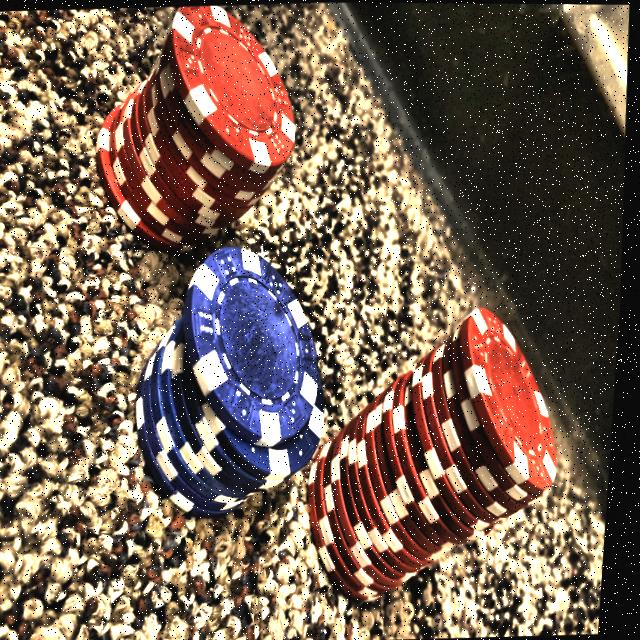Chip: (288, 282, 583, 606), (113, 230, 357, 518), (62, 8, 331, 266)
